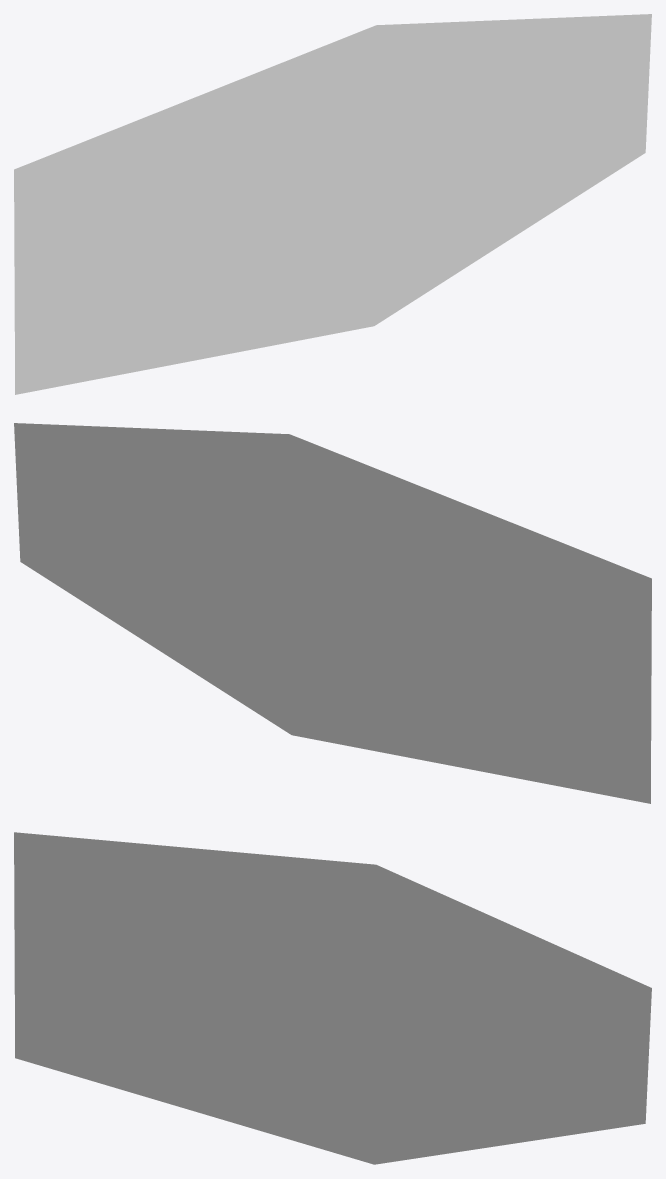
File: mesh_world_cloud_5_cloud01.FBX
The picture shows the model from 3 angles, top to bottom: view 1: azimuth 30°, elevation 25°; view 2: azimuth 150°, elevation 25°; view 3: azimuth 330°, elevation 25°; orthographic projection.
Visible parts, largest first — view 1: mesh_world_cloud_5_cloud01; view 2: mesh_world_cloud_5_cloud01; view 3: mesh_world_cloud_5_cloud01.
Part boxes in pixels (x1,y1,x2,y2): mesh_world_cloud_5_cloud01: (14,14,651,394); mesh_world_cloud_5_cloud01: (14,423,651,803); mesh_world_cloud_5_cloud01: (14,832,651,1164).
Size of the model in its own units: 17.21 by 7.75 by 2.6e-06.
1 material, 1 textured.
